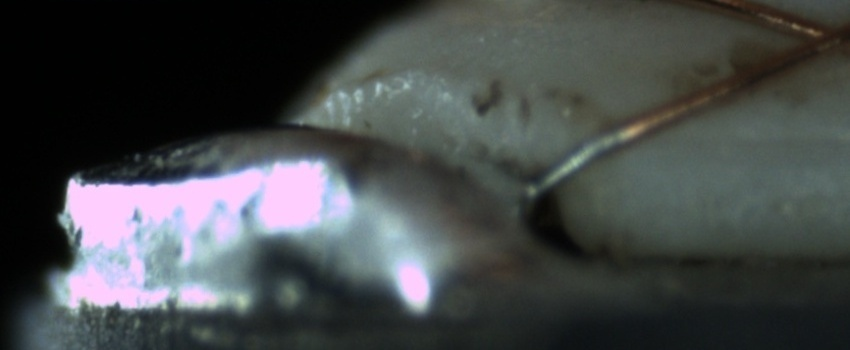CL: (774, 6, 849, 64)
DL: (674, 110, 849, 173)
TS: (528, 129, 634, 200)
